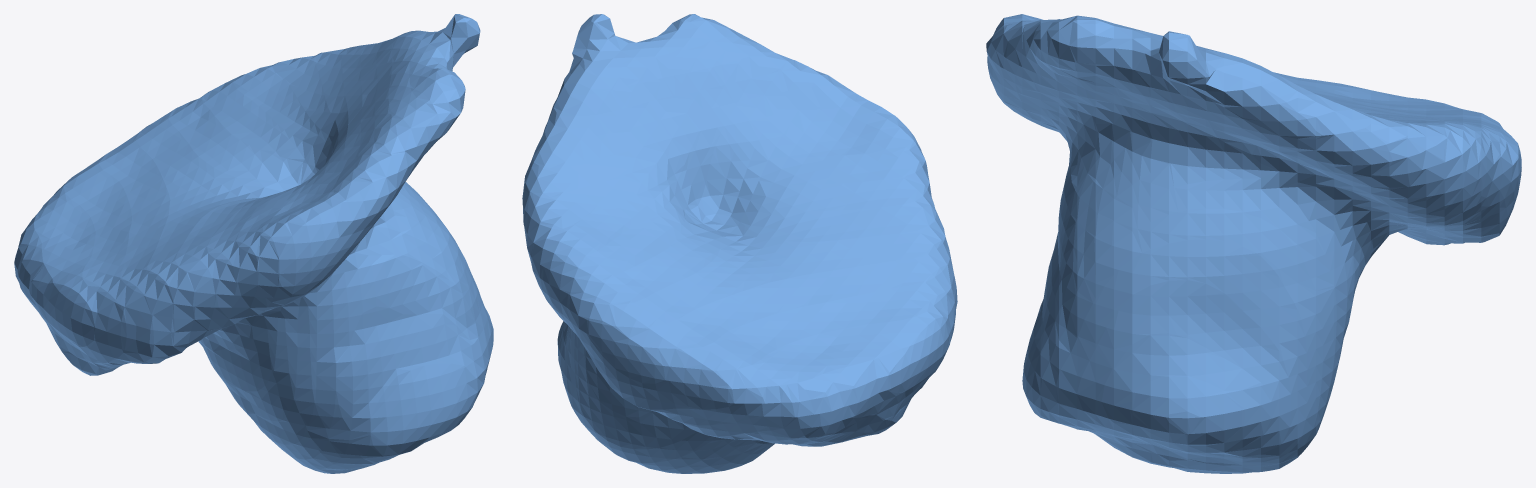
The model's file is water_0015.glb.
3 views of the same model, side by side, from view 1: azimuth 30°, elevation 25°; view 2: azimuth 150°, elevation 25°; view 3: azimuth 270°, elevation 25° (orthographic). The views are drawn at different scales.
Visible parts, largest first — view 1: Water_0015; view 2: Water_0015; view 3: Water_0015.
Part boxes in pixels (x1,y1,x2,y2): Water_0015: (14,14,493,473); Water_0015: (522,14,957,473); Water_0015: (986,14,1521,473).
Size of the model in its own units: 1.74 by 1.74 by 1.7.
